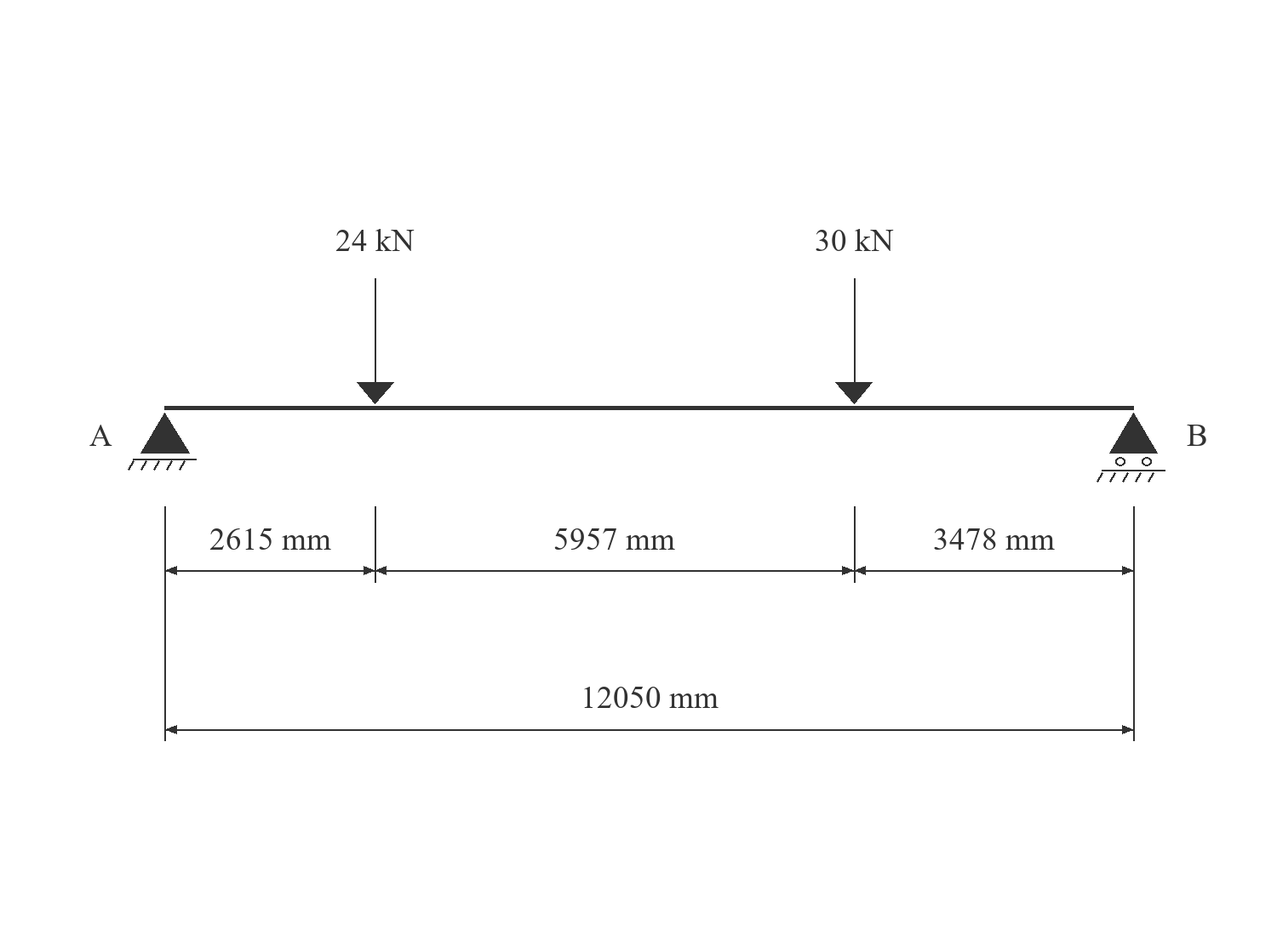pin_support: (128, 413, 197, 471)
point_load: (835, 278, 873, 404), (357, 278, 394, 404)
roller_support: (1097, 413, 1165, 482)
